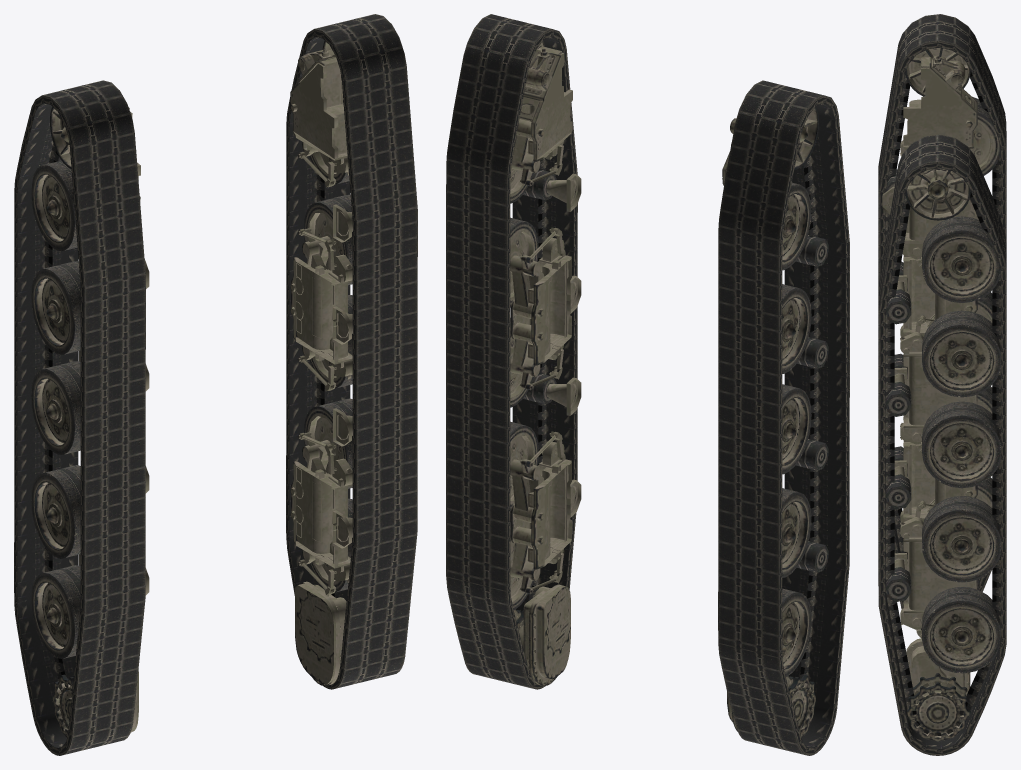
The model's file is Chassis.glb.
The picture shows the model from 3 angles, left to right: view 1: azimuth 30°, elevation 25°; view 2: azimuth 150°, elevation 25°; view 3: azimuth 270°, elevation 25°; orthographic projection. The views are drawn at different scales.
Parts seen in each view (by area): view 1: set_0_group_0, set_1_group_0, set_3_group_0, set_2_group_0; view 2: set_0_group_0, set_1_group_0, set_3_group_0, set_2_group_0; view 3: set_3_group_0, set_1_group_0, set_2_group_0, set_0_group_0.
Part boxes in pixels (left/top/right/bottom): set_0_group_0: left=14, top=80, right=145, bottom=755; set_1_group_0: left=286, top=14, right=417, bottom=689; set_3_group_0: left=290, top=41, right=352, bottom=686; set_2_group_0: left=31, top=107, right=149, bottom=737; set_0_group_0: left=718, top=80, right=849, bottom=755; set_1_group_0: left=446, top=14, right=577, bottom=689; set_3_group_0: left=510, top=40, right=581, bottom=685; set_2_group_0: left=722, top=107, right=828, bottom=737; set_3_group_0: left=885, top=168, right=1000, bottom=741; set_1_group_0: left=878, top=134, right=1006, bottom=755; set_2_group_0: left=882, top=47, right=1000, bottom=629; set_0_group_0: left=878, top=14, right=1006, bottom=609.
Bounding box in the file's own units: 3.27 × 6.15 × 1.2.
4 materials, 4 textured.
